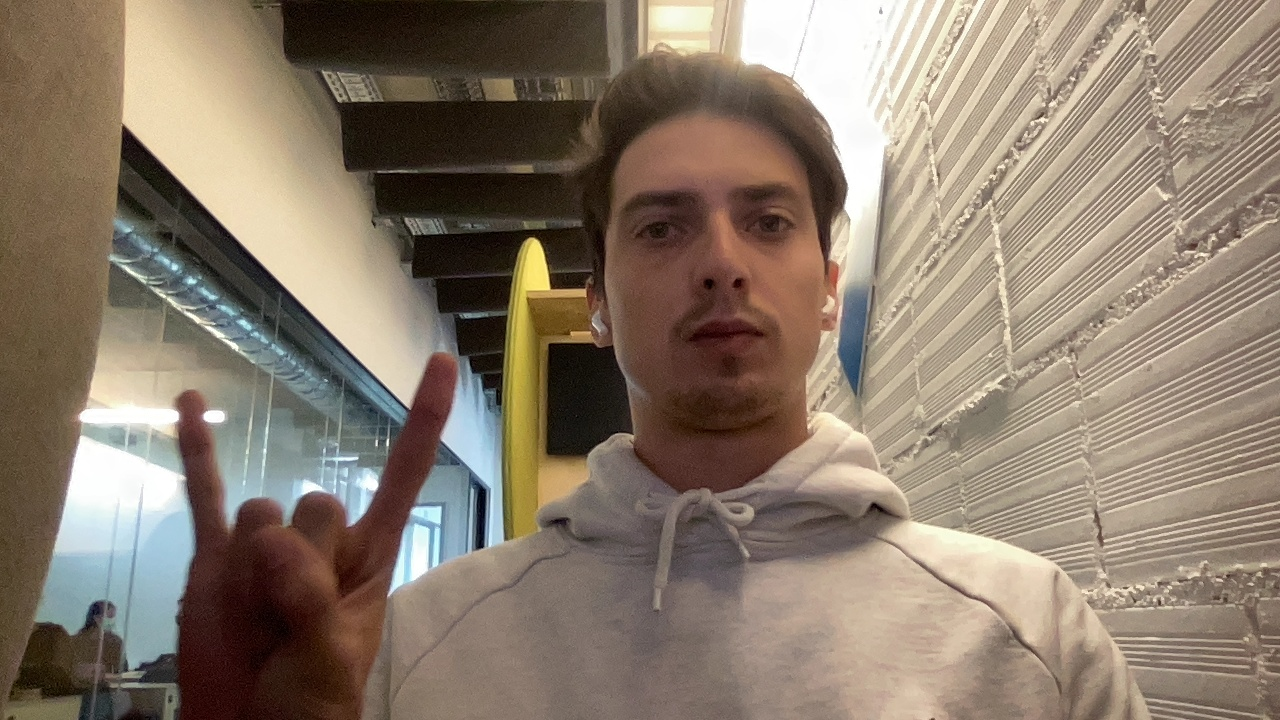iloveyou: (130, 340, 482, 708)
